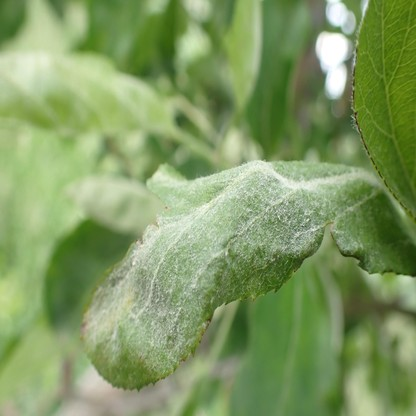powdery_mildew: (81, 157, 385, 383)
